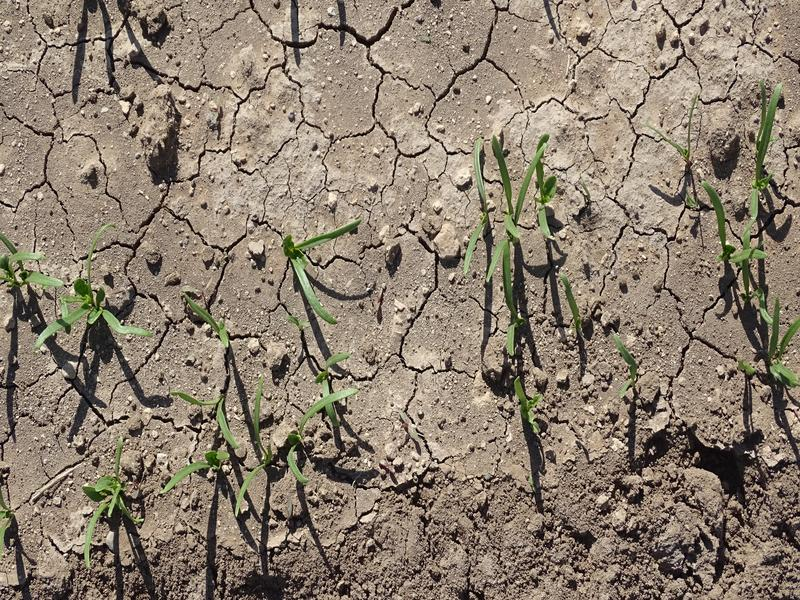Espinaca: (165, 353, 348, 511), (463, 133, 566, 276), (10, 254, 153, 351), (278, 219, 362, 323), (738, 272, 799, 387), (78, 438, 131, 562), (703, 184, 769, 270), (180, 289, 235, 349), (753, 79, 781, 180), (499, 279, 524, 355), (513, 376, 544, 431)
